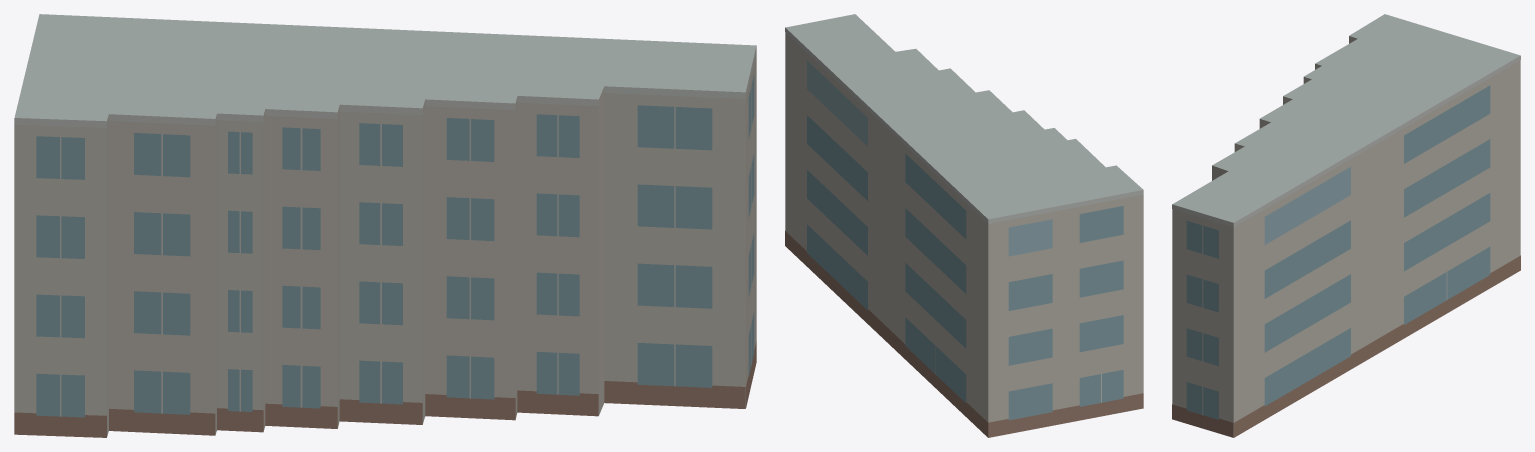
File: survey-upis-32750178.glb
3 views of the same model, side by side, from view 1: azimuth 30°, elevation 25°; view 2: azimuth 150°, elevation 25°; view 3: azimuth 270°, elevation 25° (orthographic). The views are drawn at different scales.
Visible parts, largest first — view 1: survey-upis-32750178.tmp; view 2: survey-upis-32750178.tmp; view 3: survey-upis-32750178.tmp.
Boxes of the visible parts, <box> form: survey-upis-32750178.tmp: <box>14,14,756,437</box>; survey-upis-32750178.tmp: <box>785,14,1143,437</box>; survey-upis-32750178.tmp: <box>1172,14,1520,437</box>.
Size of the model in its own units: 23.98 by 11.5 by 16.91.
